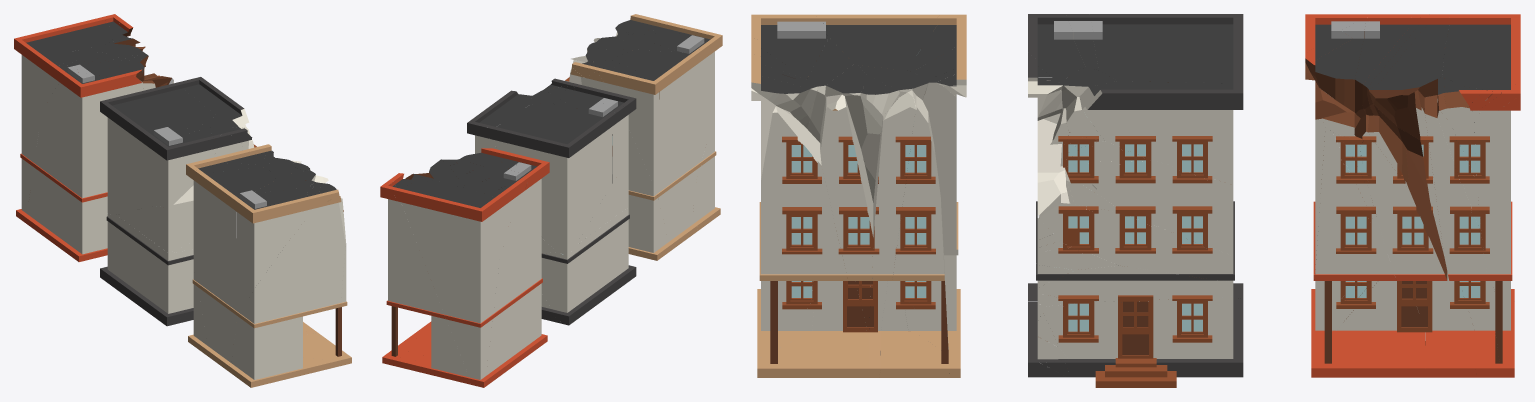
The model's file is DamagedBuıildings.fbx.
The picture shows the model from 3 angles, left to right: view 1: azimuth 30°, elevation 25°; view 2: azimuth 150°, elevation 25°; view 3: azimuth 270°, elevation 25°; orthographic projection. The views are drawn at different scales.
Parts seen in each view (by area): view 1: Flat2.009_cell.001, Flat1_cell.003, Flat2_cell.003; view 2: Flat2_cell.003, Flat1_cell.003, Flat2.009_cell.001; view 3: Flat1_cell.003, Flat2.009_cell.001, Flat2_cell.003.
Part boxes in pixels (x1,y1,x2,y2): Flat2.009_cell.001: (186,144,351,387); Flat1_cell.003: (100,77,256,326); Flat2_cell.003: (14,14,173,261); Flat2_cell.003: (380,148,549,387); Flat1_cell.003: (467,78,636,325); Flat2.009_cell.001: (565,14,722,260); Flat1_cell.003: (1028,14,1243,387); Flat2.009_cell.001: (751,14,966,377); Flat2_cell.003: (1305,14,1520,377).
Bounding box in the file's own units: 11.31 × 16.72 × 40.87.
3 materials, 3 textured.
